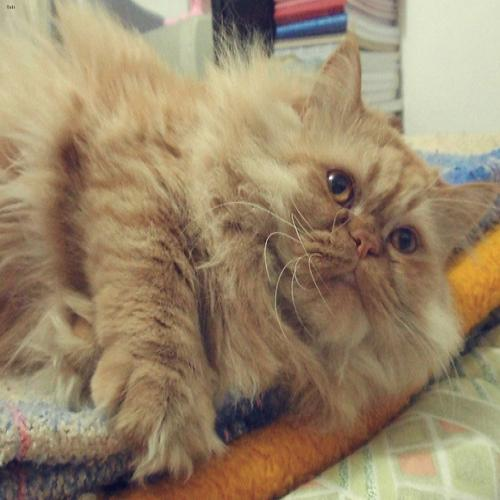persian: (262, 34, 500, 395)
